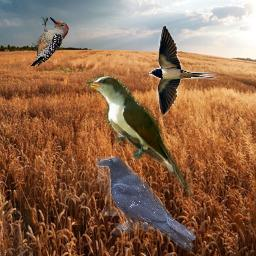Crow: (95, 156, 196, 252)
Cuckoo: (87, 73, 194, 196)
Swallow: (149, 24, 218, 117)
Woodpecker: (31, 17, 69, 66)
